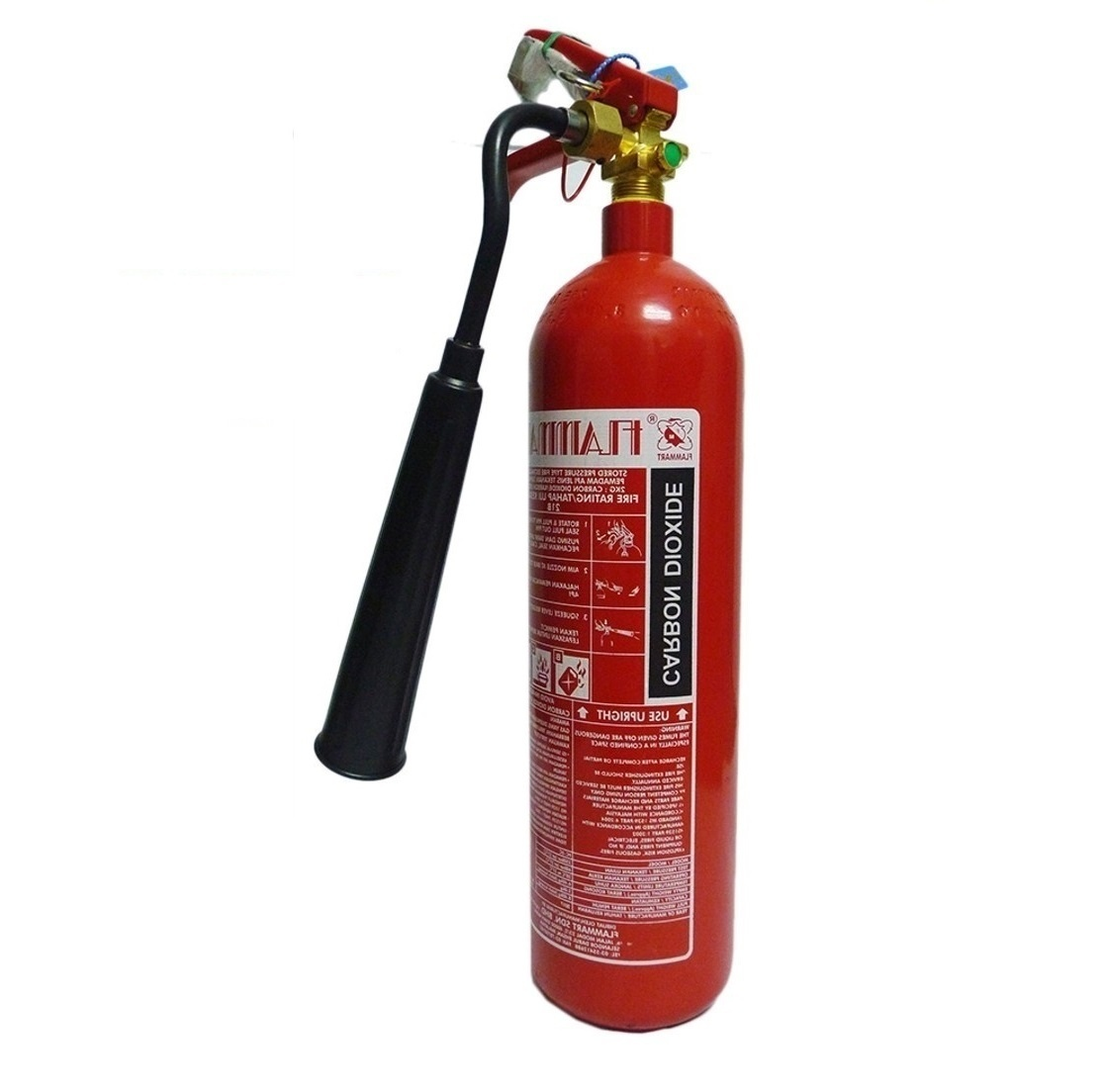fire_extinguisher: (315, 26, 745, 1034), (484, 27, 744, 1033)
